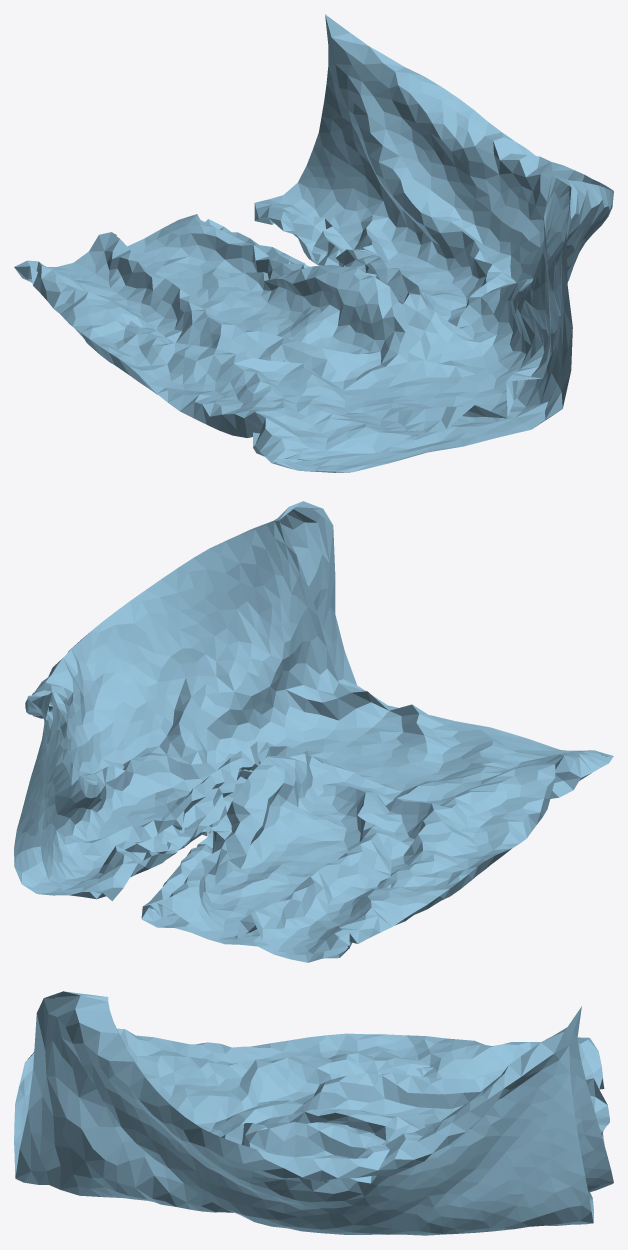
Rendered from frame_08.glb.
The picture shows the model from 3 angles, top to bottom: view 1: azimuth 30°, elevation 25°; view 2: azimuth 150°, elevation 25°; view 3: azimuth 270°, elevation 25°; orthographic projection. The views are drawn at different scales.
Visible parts, largest first — view 1: frame_08.obj; view 2: frame_08.obj; view 3: frame_08.obj.
Boxes of the visible parts, box(x1,y1,x2,y2) form: frame_08.obj: box(14, 14, 613, 472); frame_08.obj: box(14, 501, 613, 962); frame_08.obj: box(14, 991, 613, 1235).
Size of the model in its own units: 1.34 by 0.6267 by 1.5.
